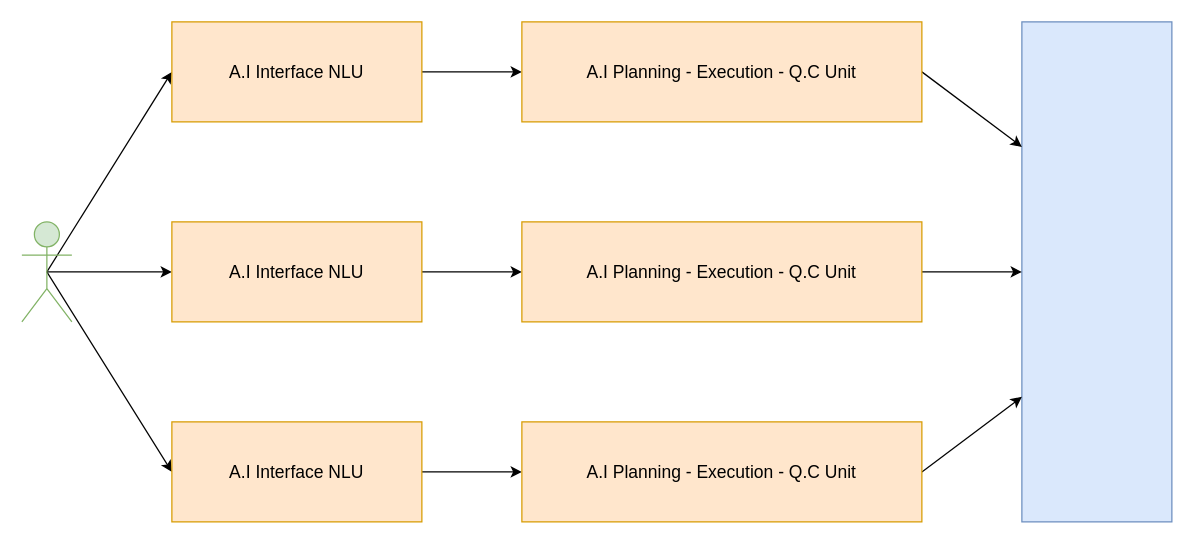
Some shapes in this 1194 by 544 pixel diagram are drawn without their labels. The centre of each missing label's shape, as x and y in pixels:
"Client" belongs at point (46, 271).
"Real World Worker Interaction" belongs at point (1096, 271).
